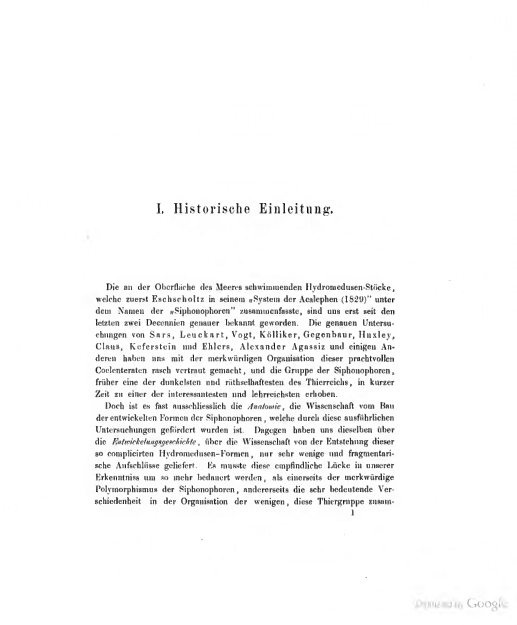Customzone_title: (142, 193, 342, 231)
MainZone: (80, 269, 407, 509)
NoiseZone: (402, 590, 517, 625)
QuireMarksZone: (340, 506, 364, 518)
